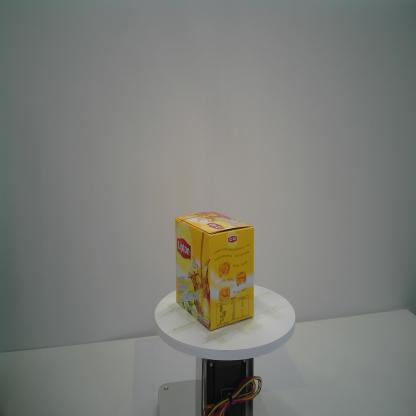Instant Drink: (174, 210, 254, 332)
